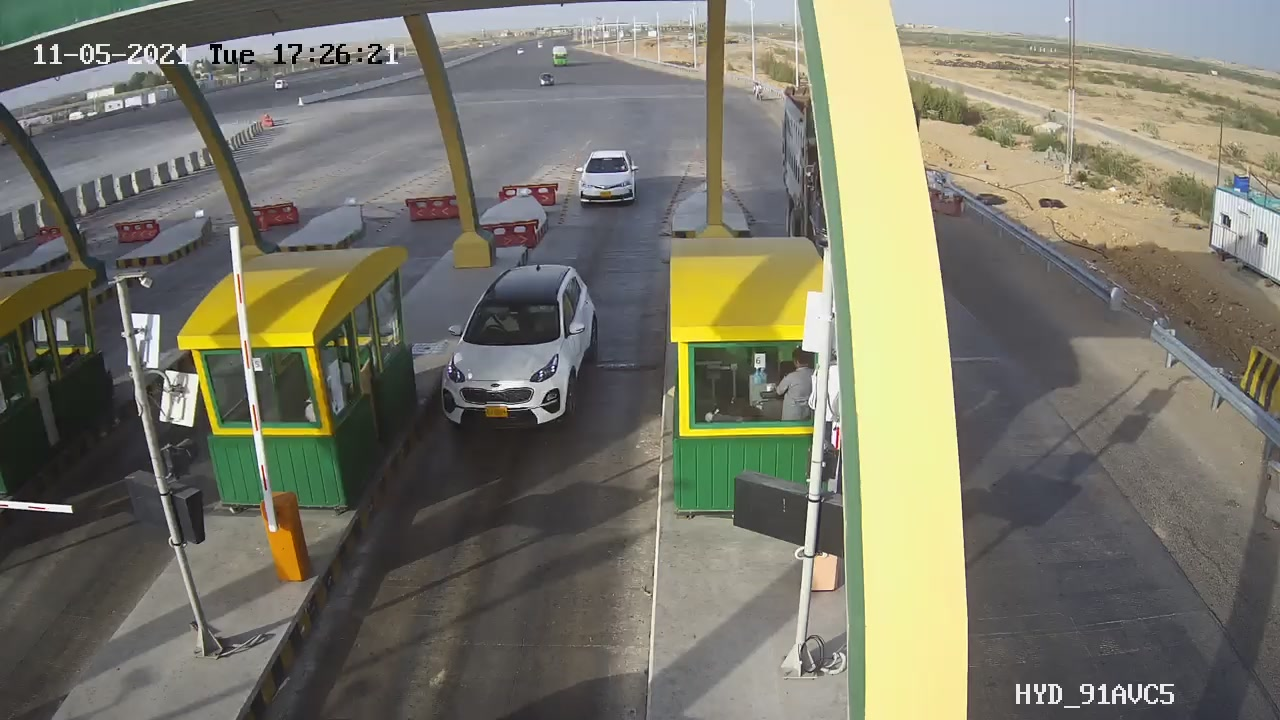F1: (425, 249, 612, 460)
